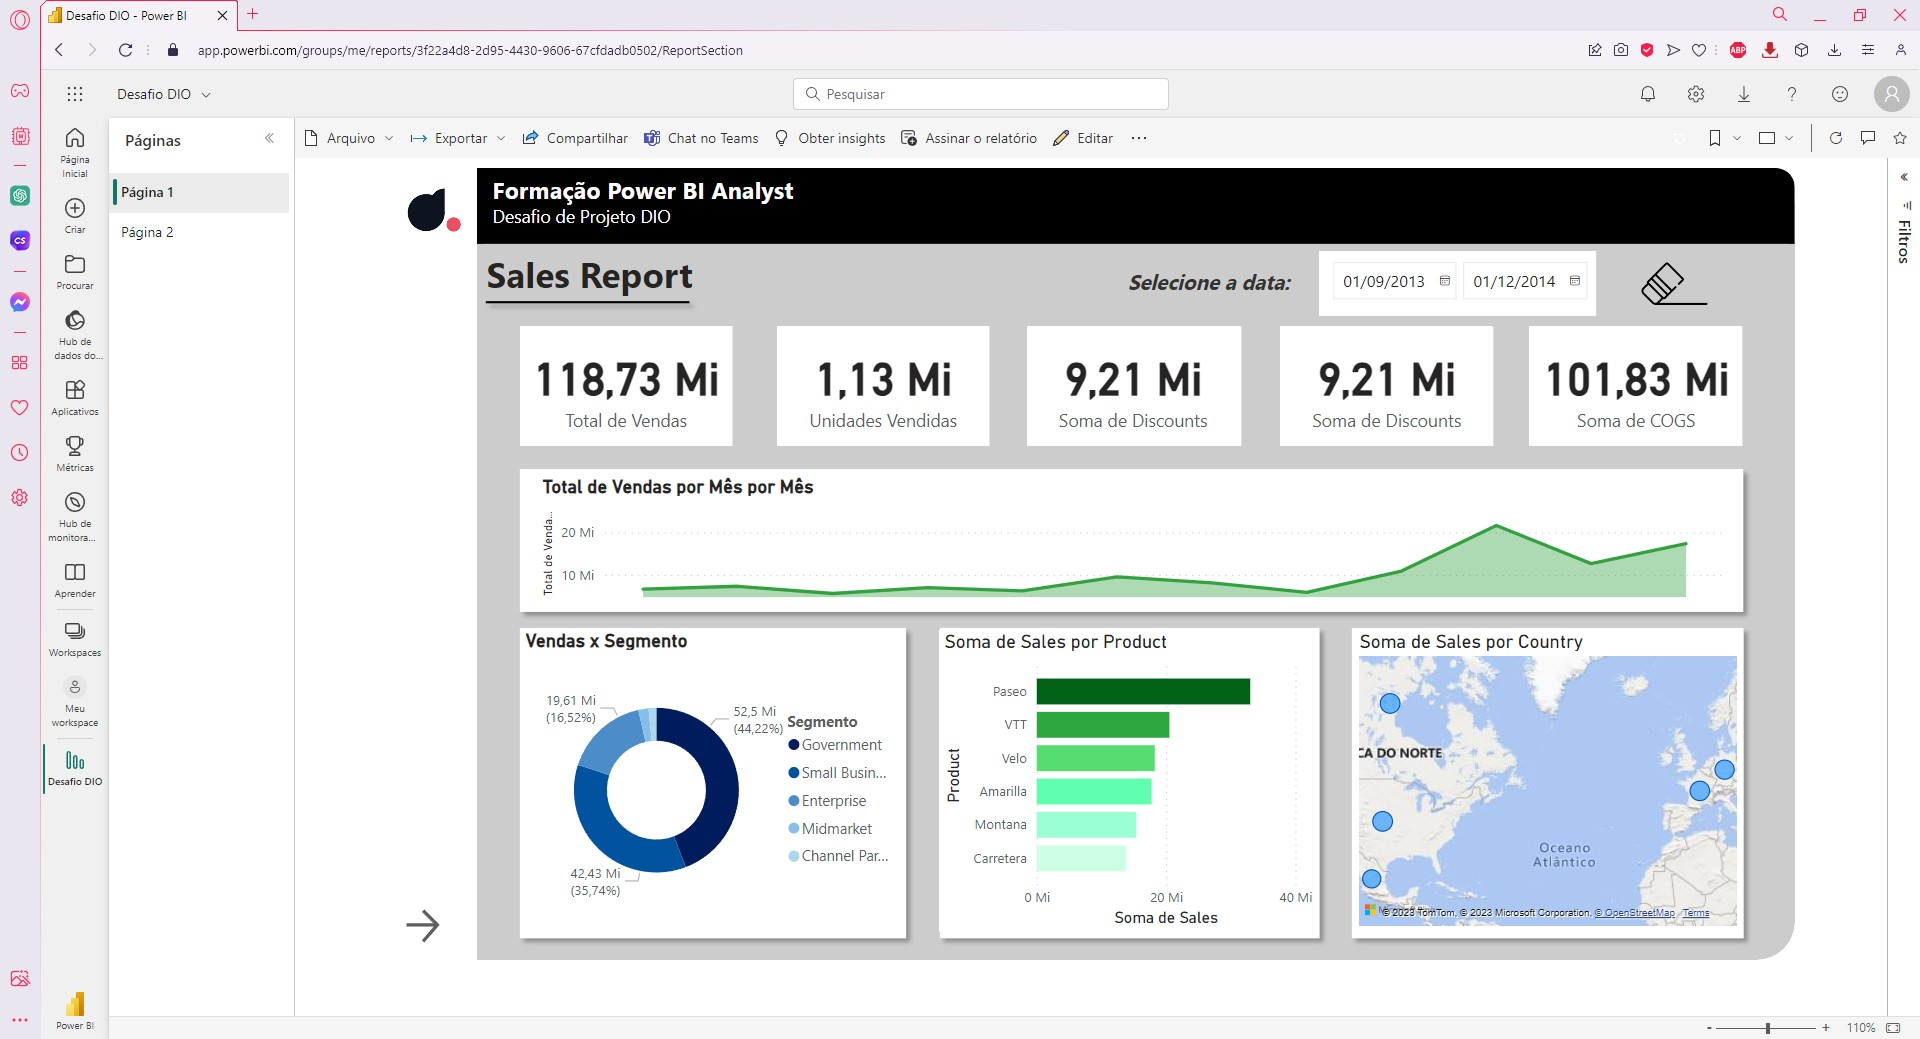

What the dashboard file says about the page in this screenshot:
{"tool":"powerbi","page":{"name":"Página 1","canvas":[1280,720],"ordinal":0},"visuals":[{"type":"shape","box":[0,0,1280,720],"z":0},{"type":"slicer","fields":{"Values":["financials.Date"]},"box":[846.6,75.6,252.2,58.9],"z":0,"group":"g2"},{"type":"shape","box":[121.1,143.3,193.3,108.9],"z":0,"group":"g1"},{"type":"donutChart","title":"Vendas x Segmento","fields":{"Category":["financials.Segment"],"Y":["Sum(financials. Sales)"]},"box":[121.1,418.9,350,274.4],"z":0,"group":"g4"},{"type":"shape","box":[0,0,82.2,720],"z":1000},{"type":"textbox","box":[663.3,85.6,166.7,48.9],"z":1000,"group":"g2"},{"type":"shape","box":[354.3,143.3,193.3,108.9],"z":1000,"group":"g1"},{"type":"map","fields":{"Category":["financials.Country"],"Size":["Sum(financials. Sales)"]},"box":[878.9,420,353.3,274.4],"z":1000,"group":"g3"},{"type":"shape","box":[583.5,143.3,193.3,108.9],"z":2000,"group":"g1"},{"type":"shape","box":[112.2,408.9,368.9,300],"z":2000},{"type":"shape","box":[812.3,143.3,193.3,108.9],"z":3000,"group":"g1"},{"type":"shape","box":[112.2,264.4,1130,147.8],"z":3000},{"type":"shape","box":[1038.8,143.3,193.3,108.9],"z":4000,"group":"g1"},{"type":"shape","box":[493.3,408.9,363.3,300],"z":4000},{"type":"image","title":"logo dio","box":[8.9,6.7,68.9,68.9],"z":5000},{"type":"group","id":"g1","title":"Grupo 1","box":[121.1,143.3,1111.1,108.9],"z":6000},{"type":"shape","box":[82.2,0,1197.8,68.9],"z":7000},{"type":"textbox","box":[85.6,68.9,300,57.8],"z":8000},{"type":"shape","box":[867.8,408.9,374.4,300],"z":9000},{"type":"shape","box":[81.1,110,203.3,24.4],"z":10000},{"type":"textbox","box":[91.1,0,625.6,68.9],"z":11000},{"type":"image","title":"borracha","box":[1135.6,68.9,70,71.1],"z":12000},{"type":"areaChart","fields":{"Category":["financials.Date.Variation.Hierarquia de datas.Mês"],"Y":["Sum(financials. Sales)"]},"box":[136.7,278.9,1084.4,115.6],"z":13000},{"type":"clusteredBarChart","fields":{"Y":["Sum(financials. Sales)"],"Category":["financials.Product"]},"box":[502.2,420,344.4,274.4],"z":14000},{"type":"group","id":"g2","title":"Grupo 2","box":[663.3,75.6,435.6,58.9],"z":15000},{"type":"group","id":"g3","title":"Grupo 3","box":[878.9,420,353.3,275.6],"z":16000},{"type":"group","id":"g4","title":"Grupo 4","box":[121.1,418.9,350,275.6],"z":17000},{"type":"card","fields":{"Values":["Sum(financials.Units Sold)"]},"box":[354.4,143.3,193.3,108.9],"z":18000},{"type":"card","fields":{"Values":["Sum(financials. Sales)"]},"box":[121.1,143.3,193.3,108.9],"z":19000},{"type":"card","fields":{"Values":["Sum(financials.Discounts)"]},"box":[582.2,143.3,193.3,108.9],"z":20000},{"type":"card","fields":{"Values":["Sum(financials.COGS)"]},"box":[1038.9,143.3,193.3,108.9],"z":21000},{"type":"actionButton","box":[12.2,668.9,57.8,40],"z":22000},{"type":"card","fields":{"Values":["Sum(financials.Discounts)"]},"box":[811.8,144.5,193.6,108.2],"z":23000},{"type":"actionButton","box":[1120.9,75.5,74.5,59.1],"z":24000}]}

Visuals, with their boxes on the page's 1280x720 design canvas (x1, y1, x2, y2). These are canvas units, not pixel positions in the 1920x1039 screenshot, which may show the page scaled, cropped or inside an application window:
shape: crop(0, 0, 1280, 720)
slicer - financials.Date: crop(847, 76, 1099, 134)
shape: crop(121, 143, 314, 252)
"Vendas x Segmento" donutChart: crop(121, 419, 471, 693)
shape: crop(0, 0, 82, 720)
textbox: crop(663, 86, 830, 134)
shape: crop(354, 143, 548, 252)
map - financials.Country x Sum(financials. Sales): crop(879, 420, 1232, 694)
shape: crop(584, 143, 777, 252)
shape: crop(112, 409, 481, 709)
shape: crop(812, 143, 1006, 252)
shape: crop(112, 264, 1242, 412)
shape: crop(1039, 143, 1232, 252)
shape: crop(493, 409, 857, 709)
"logo dio" image: crop(9, 7, 78, 76)
"Grupo 1" group: crop(121, 143, 1232, 252)
shape: crop(82, 0, 1280, 69)
textbox: crop(86, 69, 386, 127)
shape: crop(868, 409, 1242, 709)
shape: crop(81, 110, 284, 134)
textbox: crop(91, 0, 717, 69)
"borracha" image: crop(1136, 69, 1206, 140)
areaChart - financials.Date.Variation.Hierarquia de datas.Mês x Sum(financials. Sales): crop(137, 279, 1221, 394)
clusteredBarChart - Sum(financials. Sales) x financials.Product: crop(502, 420, 847, 694)
"Grupo 2" group: crop(663, 76, 1099, 134)
"Grupo 3" group: crop(879, 420, 1232, 696)
"Grupo 4" group: crop(121, 419, 471, 694)
card - Sum(financials.Units Sold): crop(354, 143, 548, 252)
card - Sum(financials. Sales): crop(121, 143, 314, 252)
card - Sum(financials.Discounts): crop(582, 143, 776, 252)
card - Sum(financials.COGS): crop(1039, 143, 1232, 252)
actionButton: crop(12, 669, 70, 709)
card - Sum(financials.Discounts): crop(812, 144, 1005, 253)
actionButton: crop(1121, 76, 1195, 135)
